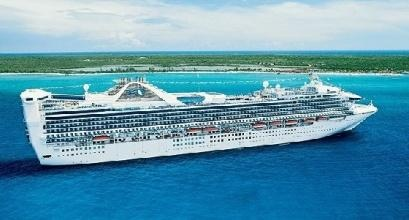youlun: (20, 66, 376, 164)
